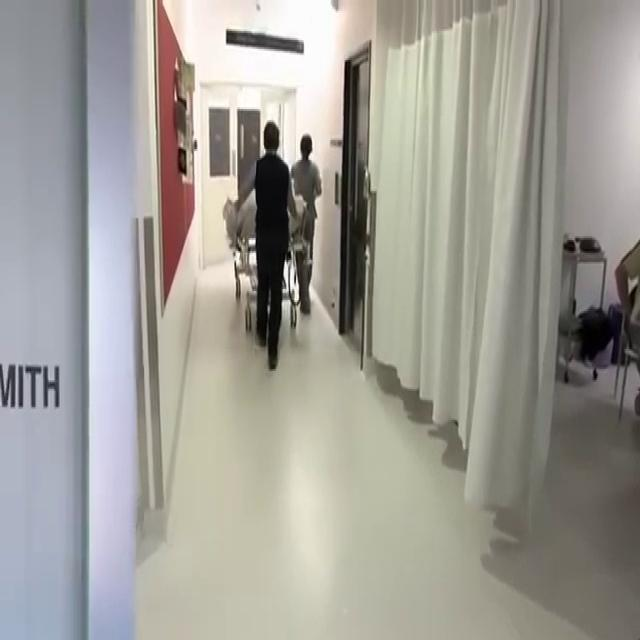others: (225, 118, 298, 369)
